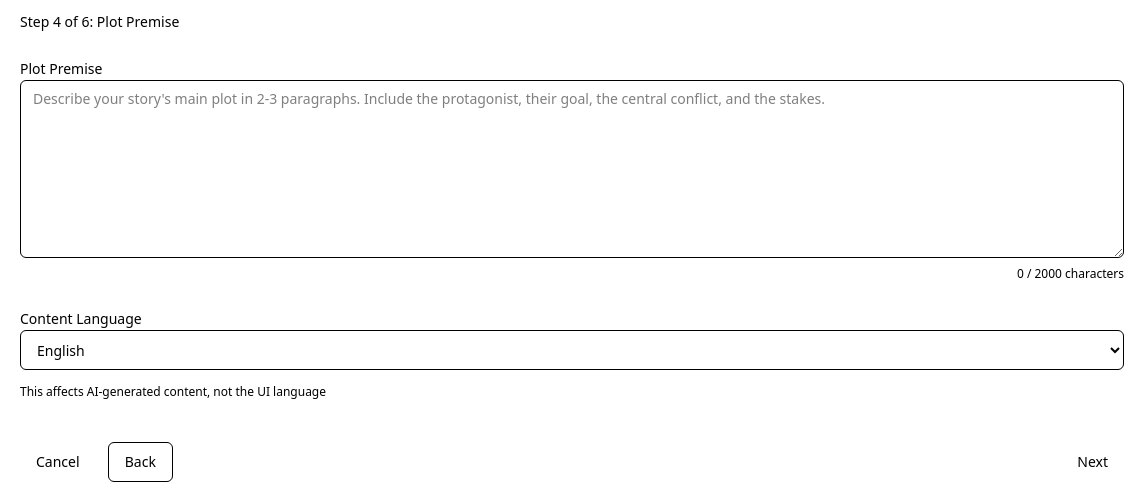
Test: Step 4: Plot Premise › updates character counter as user types
Type "This is a test plot premise." into the text box with test id "plot-premise-textarea" at (572, 169), box x1=20 y1=80 x2=1124 y2=258
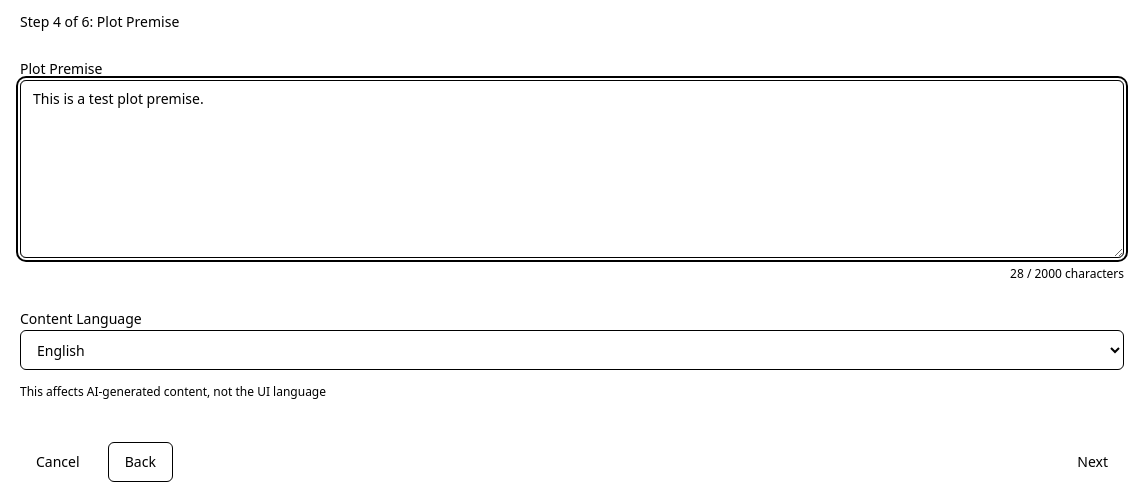
Result: the text with test id "character-counter" reads "28 / 2000 characters" at x1=1010 y1=265 x2=1124 y2=282
